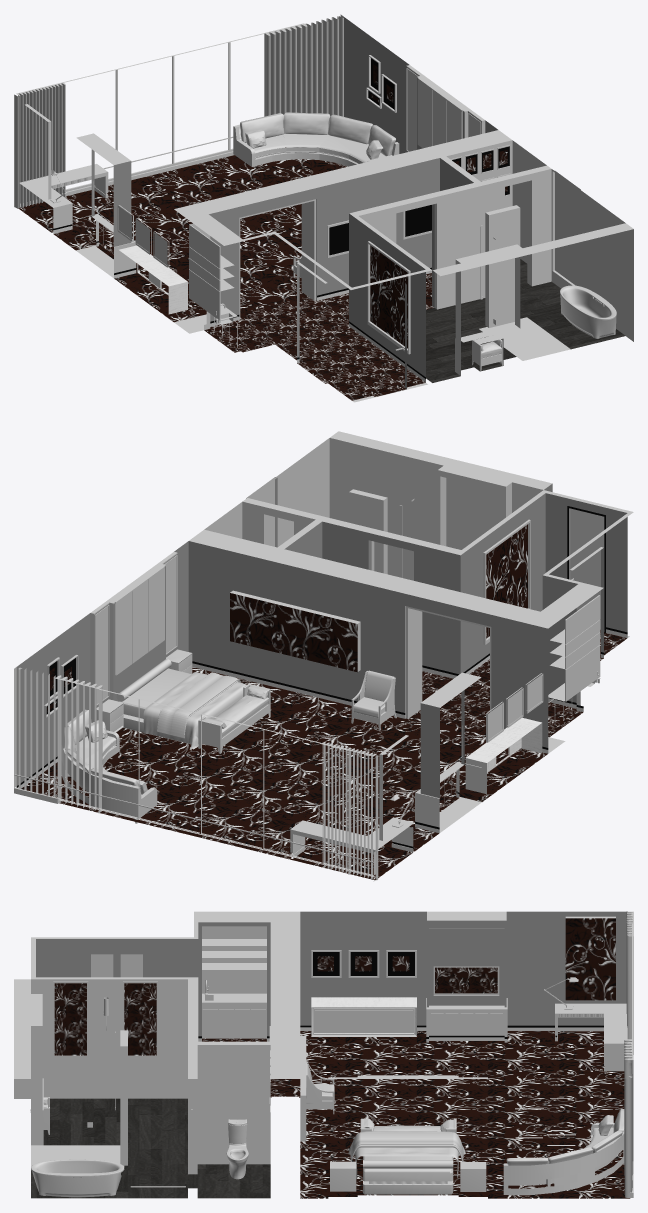
Rendered from custom_brown_axminster_carpet_hotel_room.glb.
3 renders of one model, top to bottom at view 1: azimuth 30°, elevation 25°; view 2: azimuth 150°, elevation 25°; view 3: azimuth 270°, elevation 25°, orthographic. The views are drawn at different scales.
Visible parts, largest first — view 1: skfb_offset; view 2: skfb_offset; view 3: skfb_offset.
Boxes of the visible parts, bbox=[...] form: skfb_offset: bbox=[14, 14, 633, 402]; skfb_offset: bbox=[14, 431, 633, 881]; skfb_offset: bbox=[14, 911, 633, 1198].
Bounding box in the file's own units: 7.45 × 2.53 × 11.49.
Materials: 7 (4 with a texture image).
